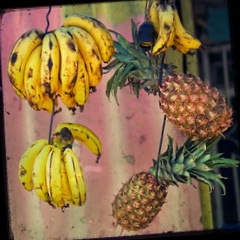Pineapple: (105, 23, 235, 142), (111, 130, 237, 228)
